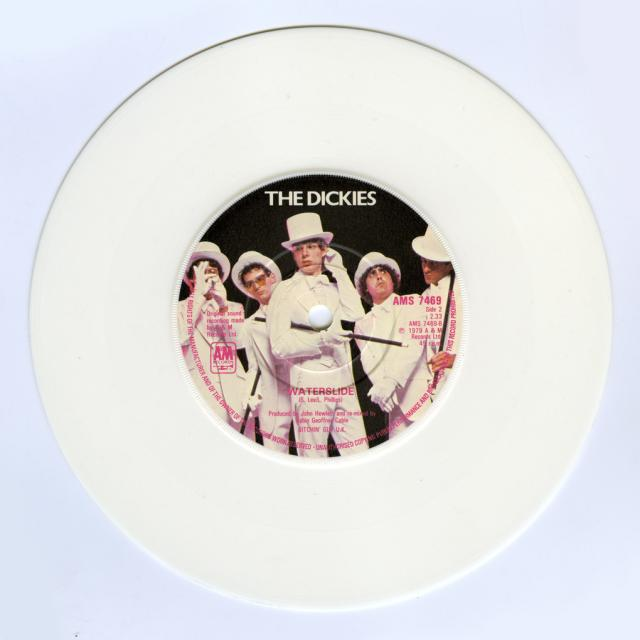non-organic waste: (11, 21, 640, 616)
